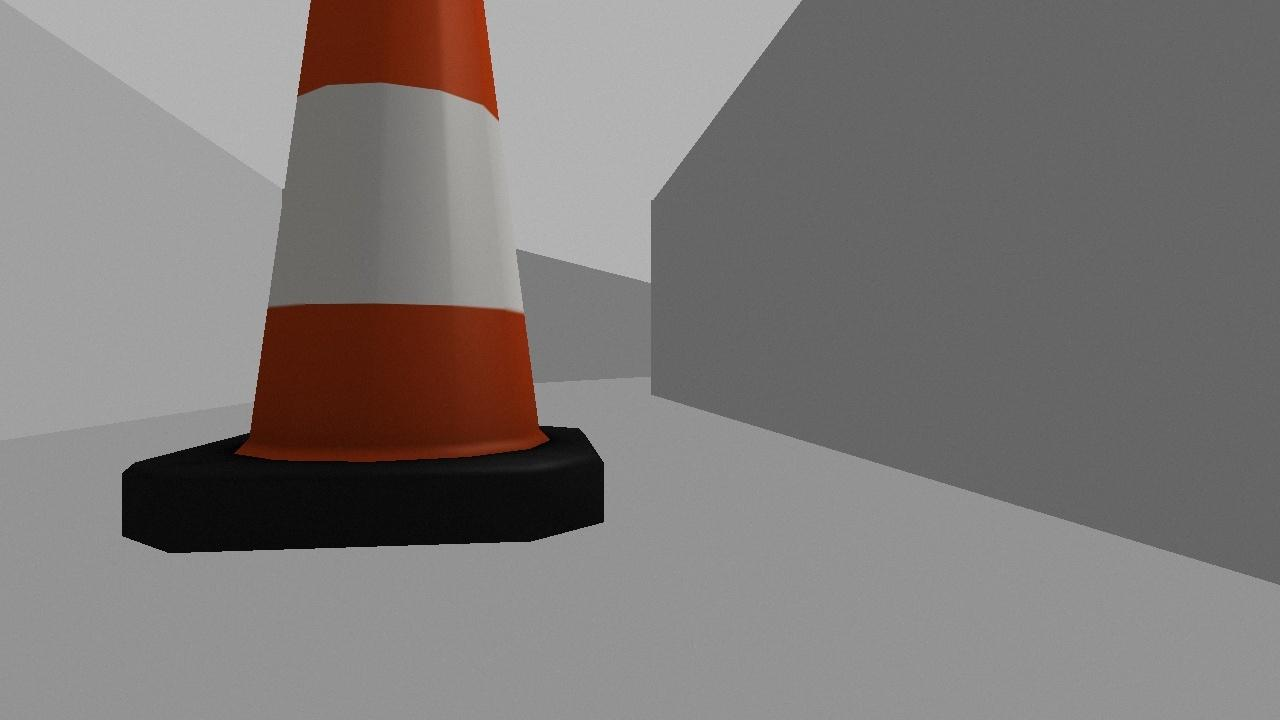cone_barrel: (117, 0, 606, 551)
